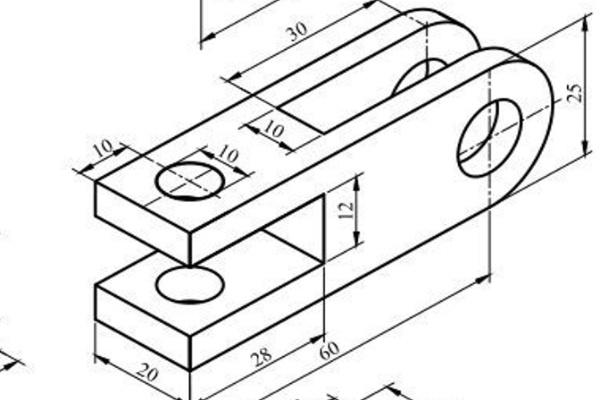dimensions: (280, 12, 312, 43), (129, 360, 166, 382), (88, 133, 120, 158), (246, 346, 278, 370), (314, 340, 343, 366), (218, 140, 246, 166), (564, 81, 584, 110), (262, 118, 287, 140), (334, 197, 356, 222)
